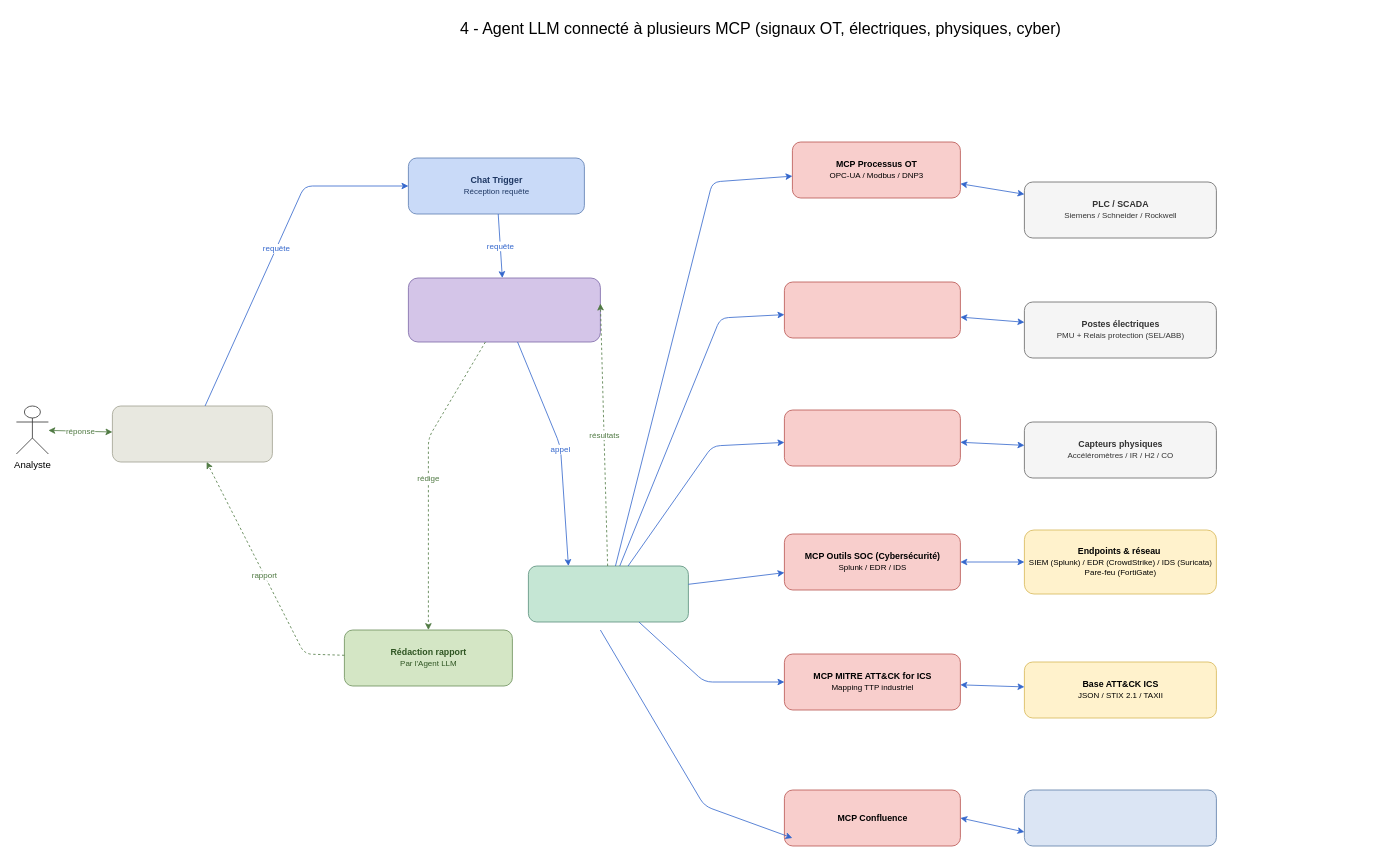
Some shapes in this 1374 by 860 pixel diagram are drawn without their labels. The box of each missing label's shape, as (x1, y1, x2, y2) in pixels:
Agent LLM Claude / GPT-4o / Llama / Mistral: (408, 277, 600, 342)
Espace Confluence Hydro-Quéebec Projets / CVE: (1024, 789, 1216, 846)
Interface chat n8n Requête + Réponse: (112, 405, 272, 462)
MCP Capteurs physiques Vibration / Thermique / Gaz: (784, 409, 960, 466)
MCP Client Tool Pont vers serveurs MCP: (528, 565, 688, 622)
MCP Signaux élèctriques PMU C37.118 / IEC 61850: (784, 281, 960, 338)
